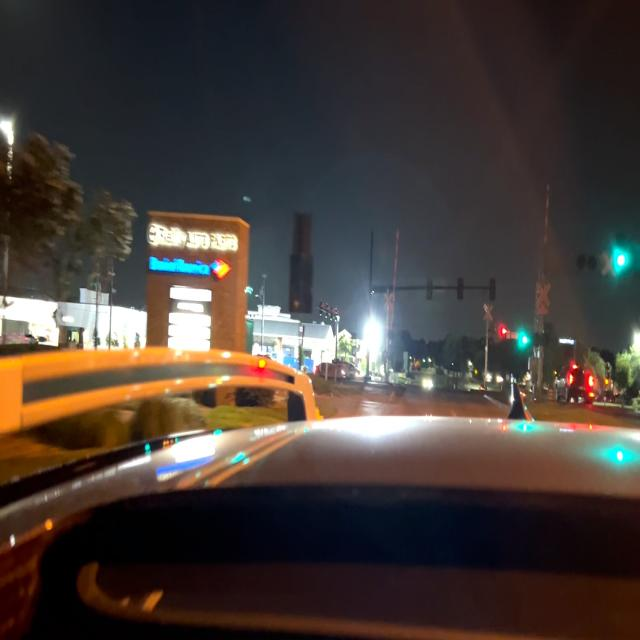back-of-sign: (292, 212, 312, 312)
